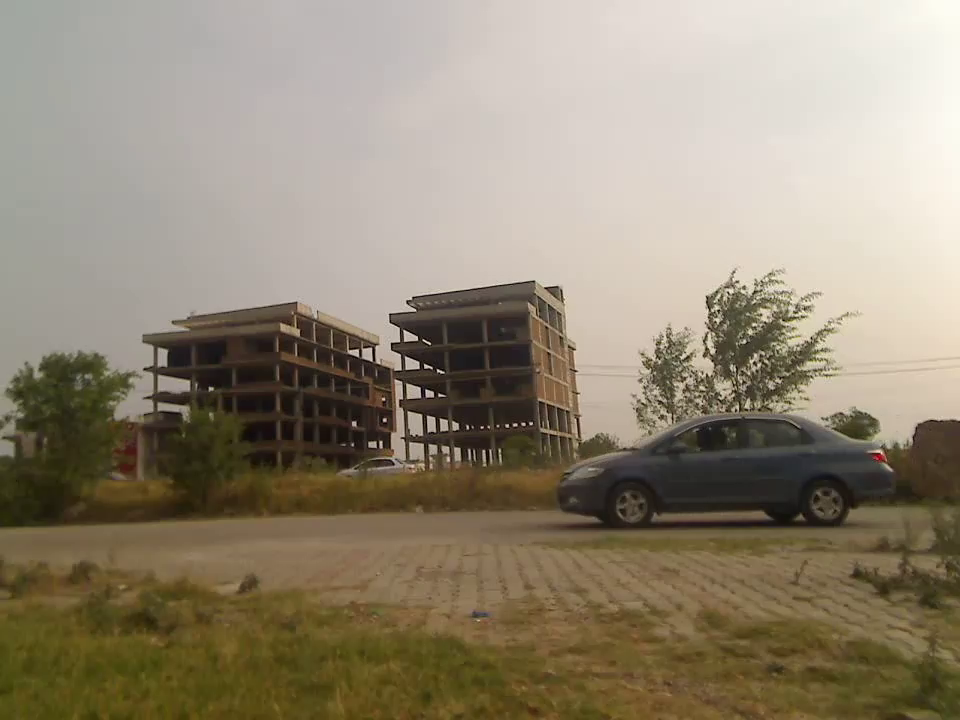car: (553, 398, 906, 553), (327, 448, 430, 491)
